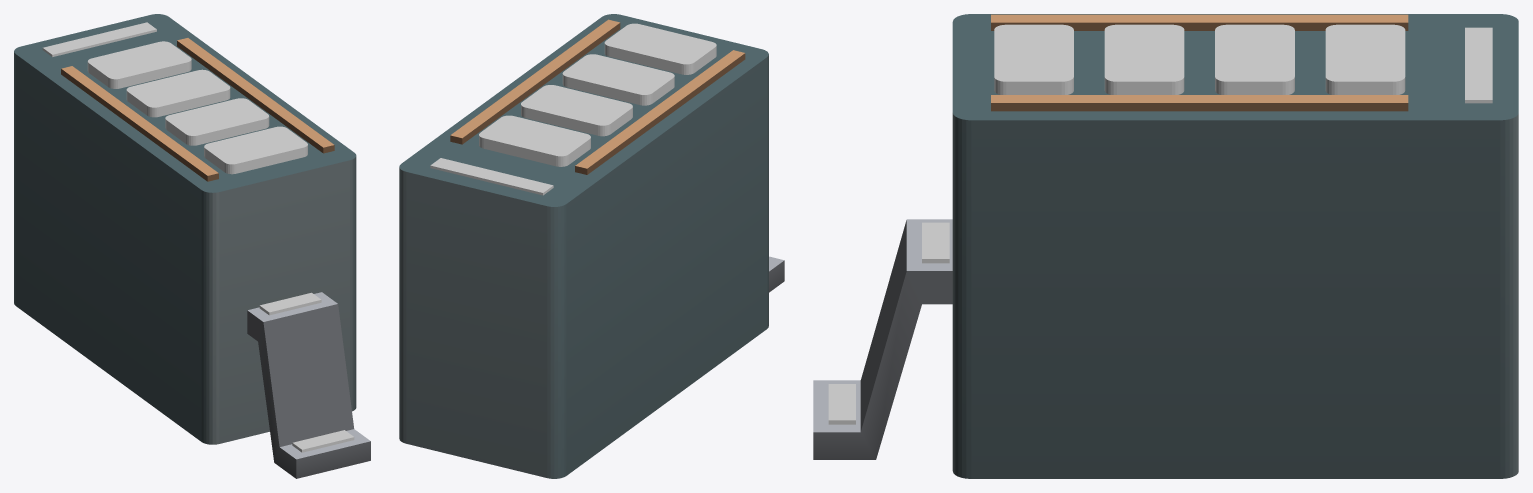
File: pin_parallel_circuit.glb
3 views of the same model, side by side, from view 1: azimuth 30°, elevation 25°; view 2: azimuth 150°, elevation 25°; view 3: azimuth 270°, elevation 25° (orthographic). The views are drawn at different scales.
Visible parts, largest first — view 1: Korpus, Licht, Seltenheit; view 2: Korpus, Licht; view 3: Korpus, Licht, Seltenheit.
Boxes of the visible parts, x1=… form: Korpus: x1=14, y1=14, x2=370, y2=478; Licht: x1=42, y1=22, x2=354, y2=452; Seltenheit: x1=259, y1=292, x2=321, y2=315; Korpus: x1=399, y1=14, x2=784, y2=478; Licht: x1=430, y1=23, x2=716, y2=195; Korpus: x1=813, y1=14, x2=1518, y2=478; Licht: x1=828, y1=24, x2=1492, y2=424; Seltenheit: x1=922, y1=222, x2=949, y2=263.
Bounding box in the file's own units: 0.82 × 1.37 × 2.3.
